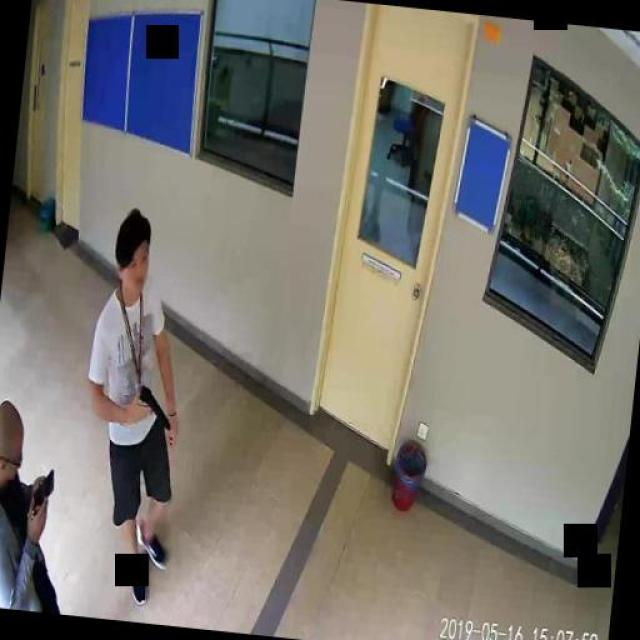gun: (132, 384, 174, 430)
